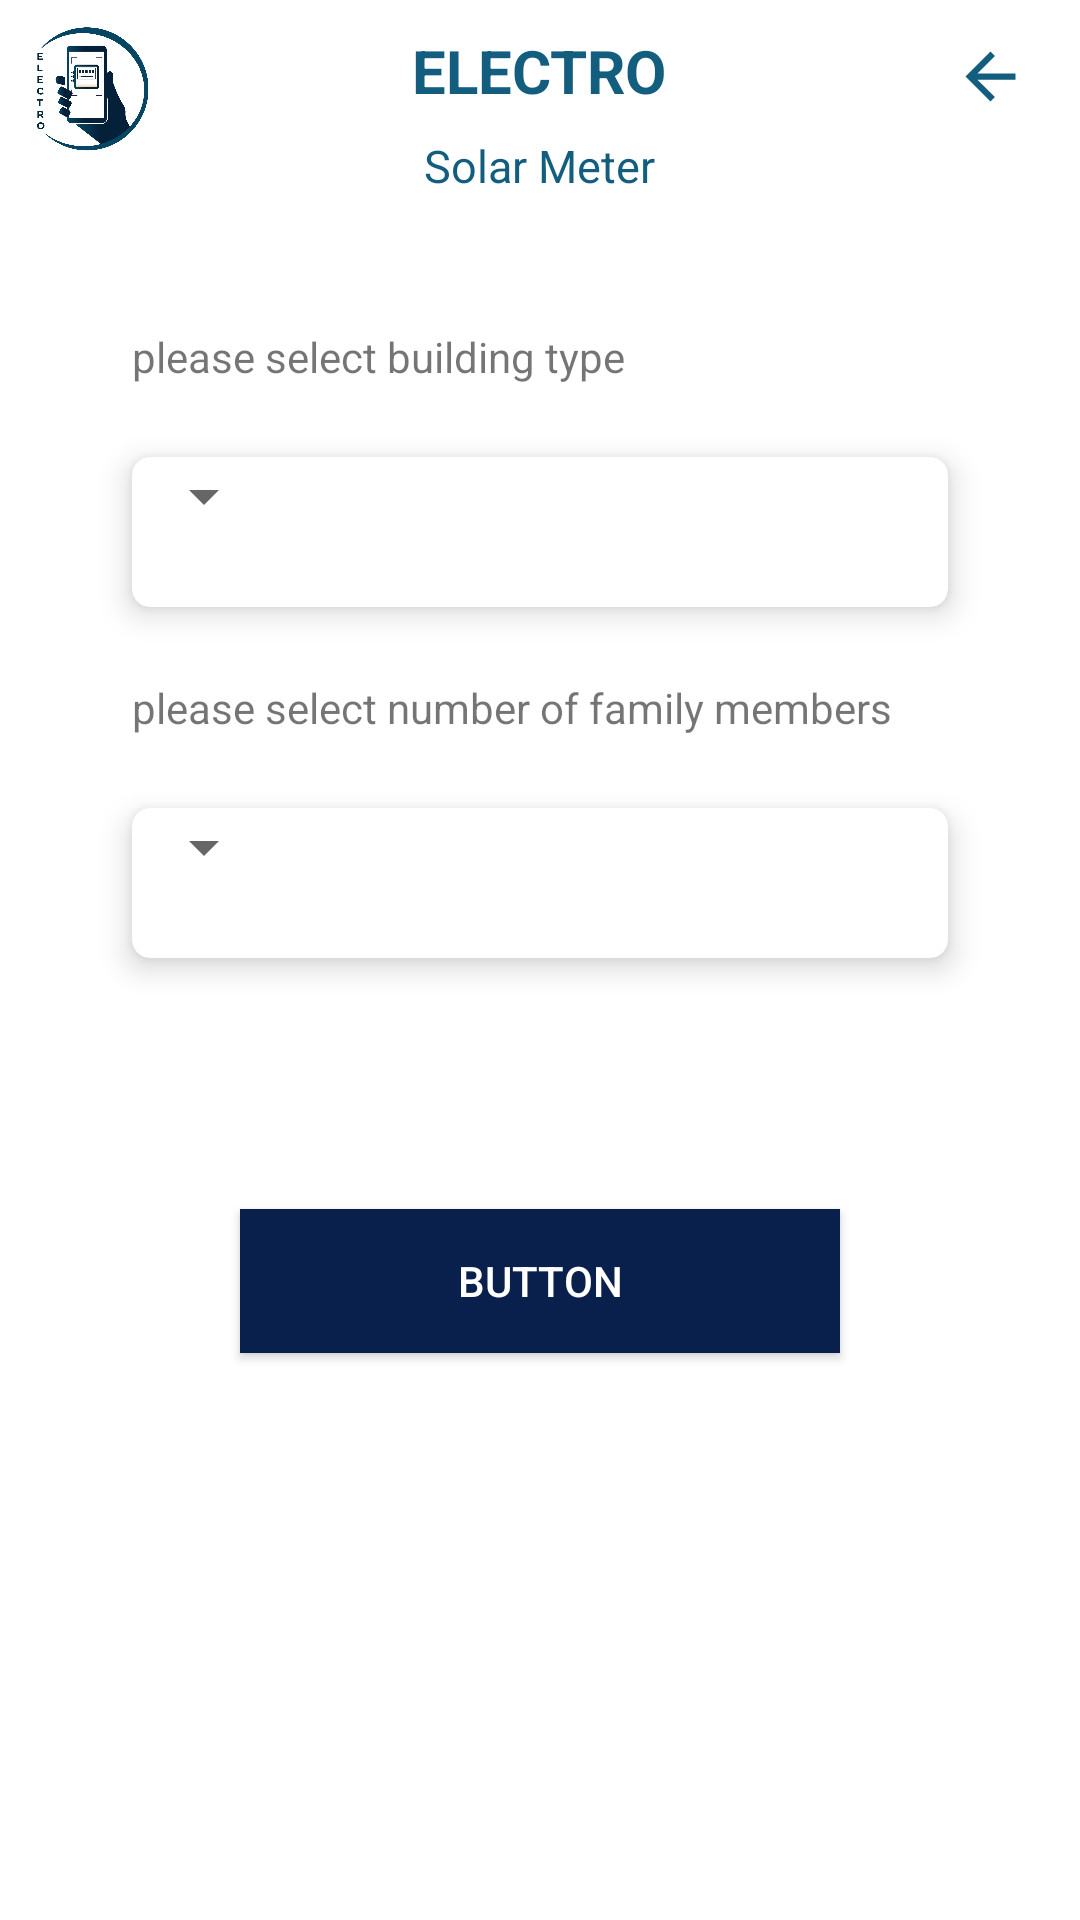

Icon bounding boxes for this 1080 x 1920 phone screenshot, format {"x1": x1, "y1": y1, "x2": x2, "y2": y2}:
arrow back: {"x1": 965, "y1": 51, "x2": 1016, "y2": 102}
